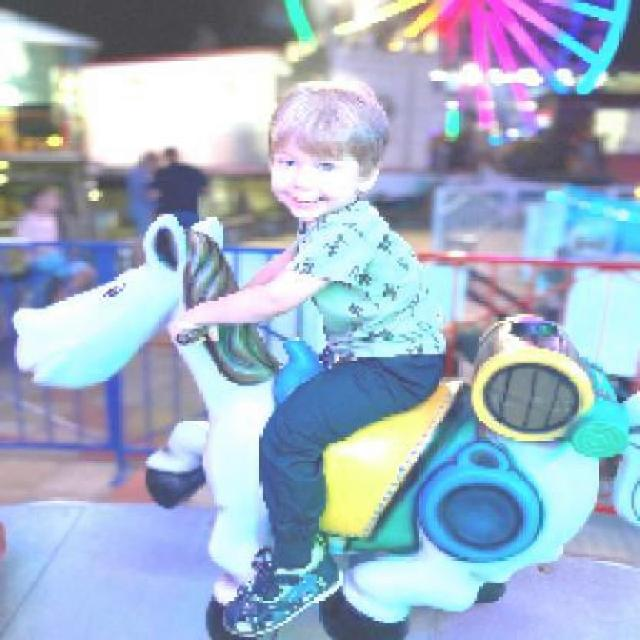child: (168, 82, 452, 638)
